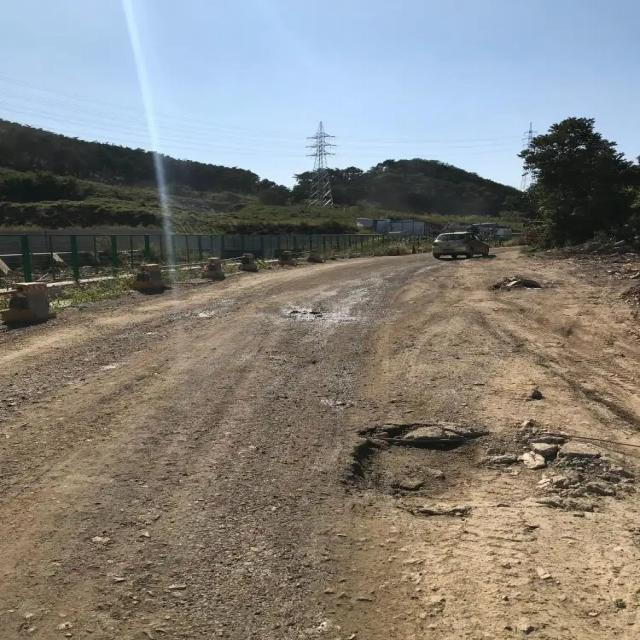Pothole: (341, 424, 622, 517), (278, 300, 351, 328)
